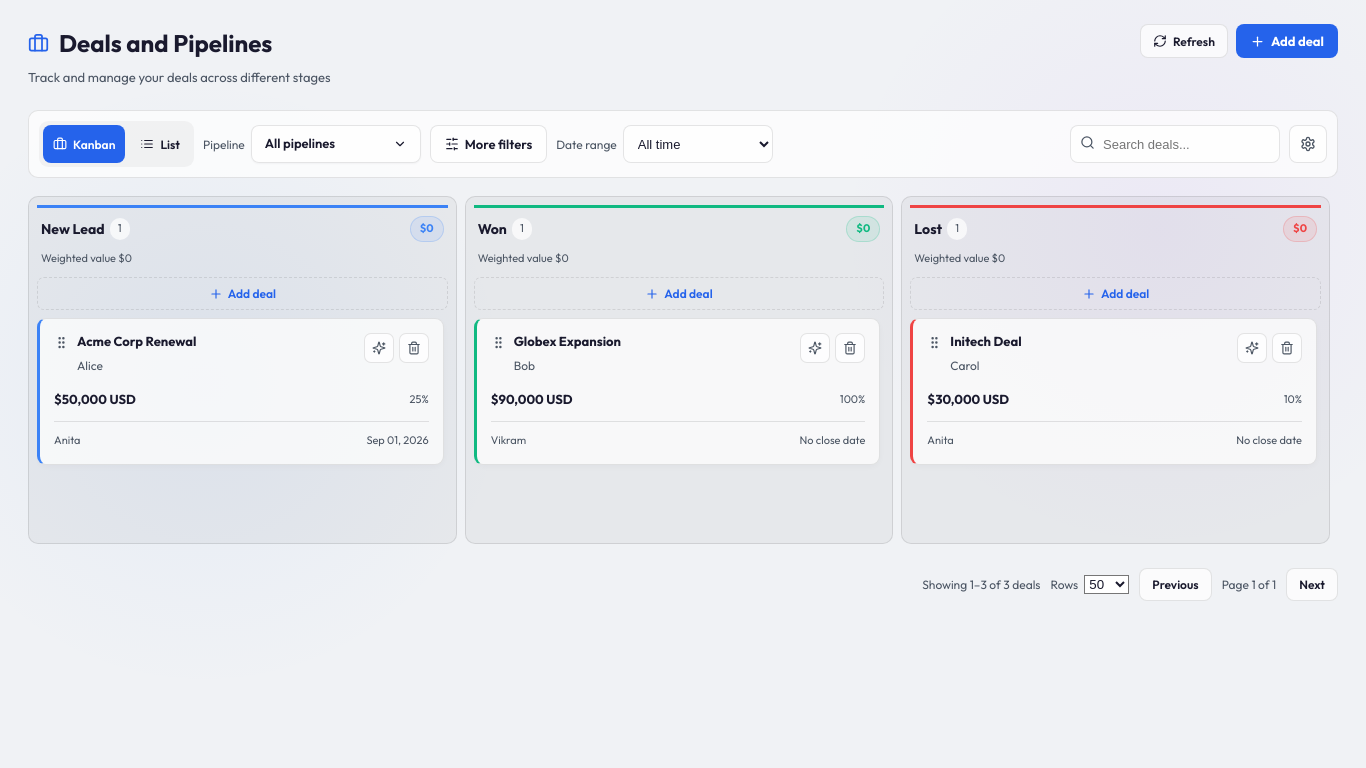
Deals and Pipelines page › filters deals by title and company search
Expected: the heading "Acme Corp Renewal" is shown, 77,333 -> 196,349
In the field labelled "Search deals...": (1175, 144) 1070,125 -> 1280,163, type "globex"
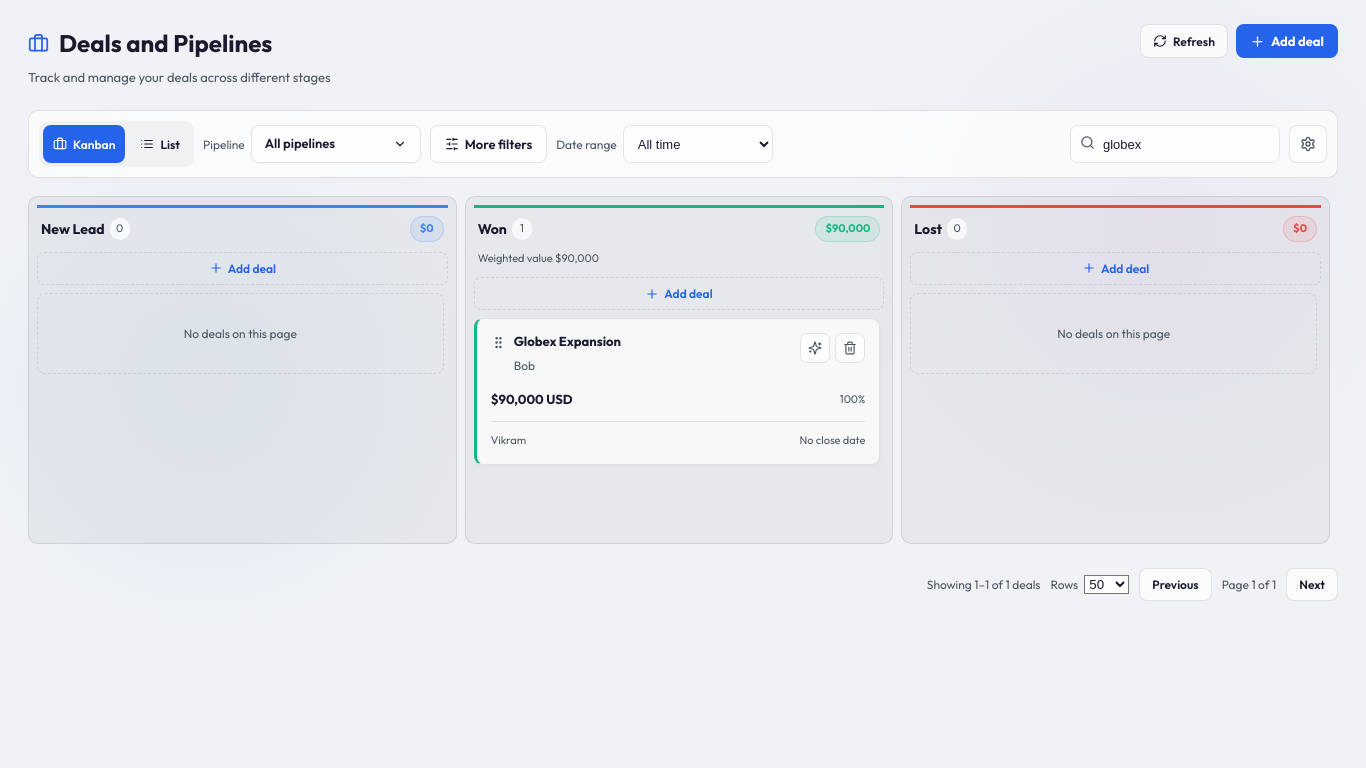
Expected: the heading "Globex Expansion" is shown, 514,333 -> 621,349
Result: the heading "Acme Corp Renewal" is gone
Replace the text in the field named "Search deals" with "initech": (1175, 144) 1070,125 -> 1280,163
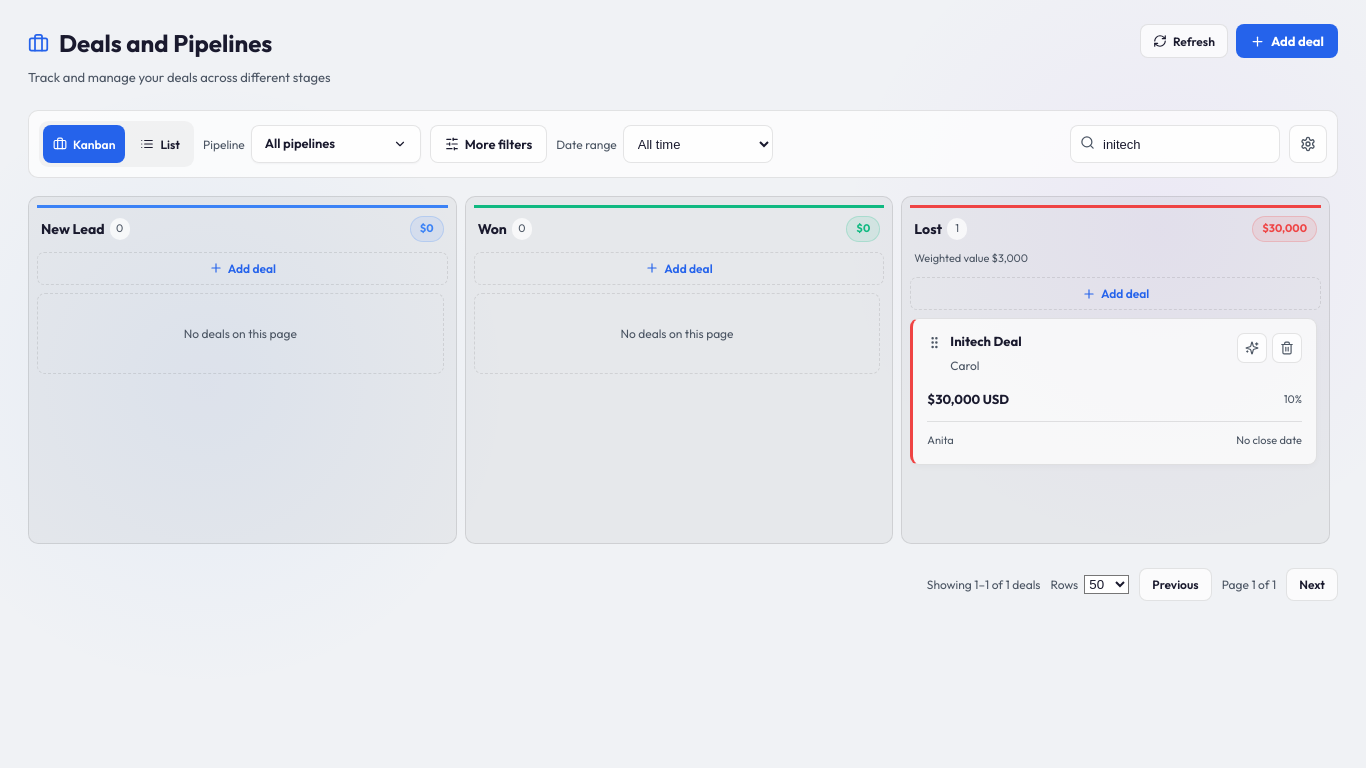
Result: the heading "Globex Expansion" is gone
Result: the heading "Initech Deal" is shown at 950,333 -> 1022,349
